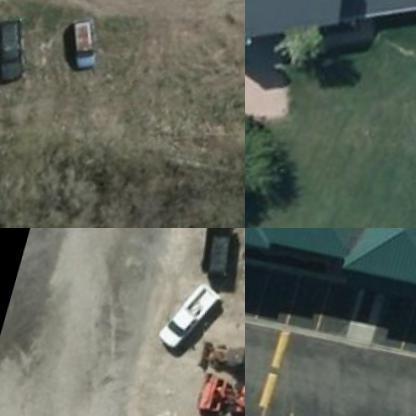car: (158, 278, 221, 364), (62, 13, 108, 76), (0, 19, 38, 88)
